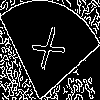X: (25, 25, 66, 77)
